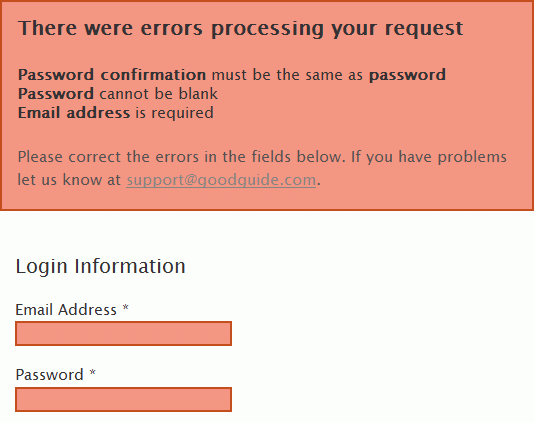error_field: (14, 321, 232, 347), (15, 387, 232, 412)
error_message: (17, 66, 446, 121), (16, 149, 508, 189), (17, 19, 464, 39)
